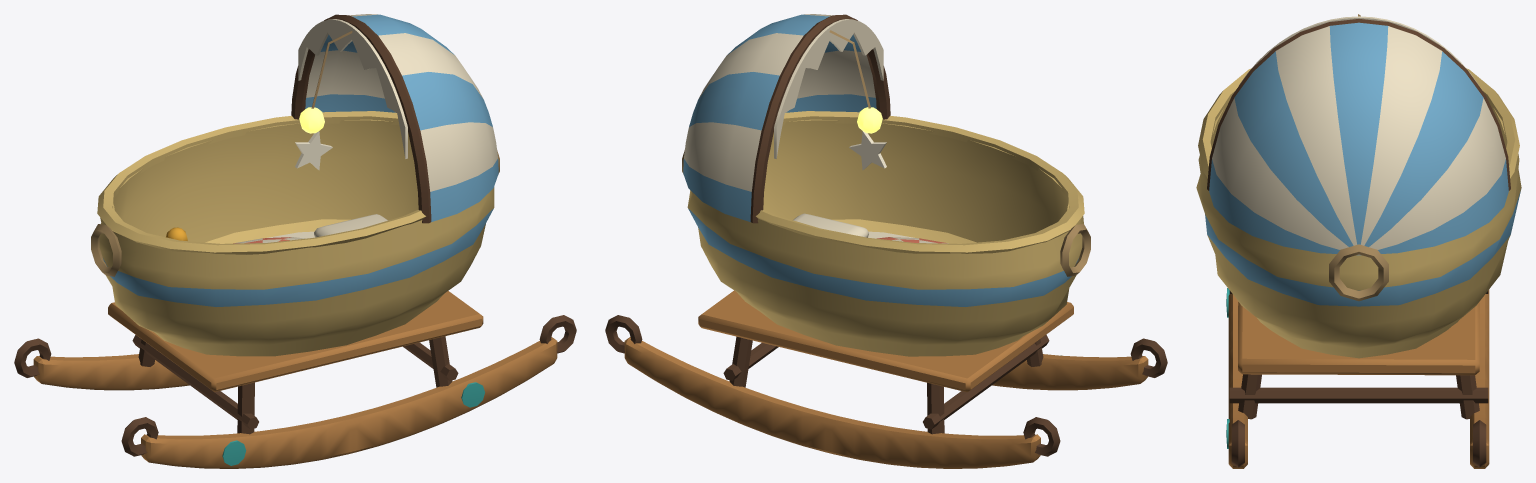
Rendered from deco_cradle.fbx.
3 renders of one model, left to right at view 1: azimuth 30°, elevation 25°; view 2: azimuth 150°, elevation 25°; view 3: azimuth 270°, elevation 25°, orthographic. The views are drawn at different scales.
Parts seen in each view (by area): view 1: Cradle_Basket, Cradle_Rockers, Cradle_Canopy, Cradle_Bedding; view 2: Cradle_Basket, Cradle_Rockers, Cradle_Canopy, Cradle_Bedding; view 3: Cradle_Canopy, Cradle_Basket, Cradle_Rockers.
Part boxes in pixels (left/top/right/bottom): Cradle_Basket: left=91, top=111, right=499, bottom=356; Cradle_Rockers: left=14, top=291, right=576, bottom=468; Cradle_Canopy: left=291, top=14, right=498, bottom=223; Cradle_Bedding: left=166, top=214, right=387, bottom=243; Cradle_Basket: left=682, top=111, right=1090, bottom=356; Cradle_Rockers: left=605, top=290, right=1167, bottom=468; Cradle_Canopy: left=683, top=14, right=890, bottom=223; Cradle_Bedding: left=793, top=213, right=948, bottom=243; Cradle_Canopy: left=1207, top=14, right=1510, bottom=255; Cradle_Basket: left=1196, top=68, right=1521, bottom=358; Cradle_Rockers: left=1226, top=288, right=1489, bottom=468.
Size of the model in its own units: 137 by 108 by 75.48.
